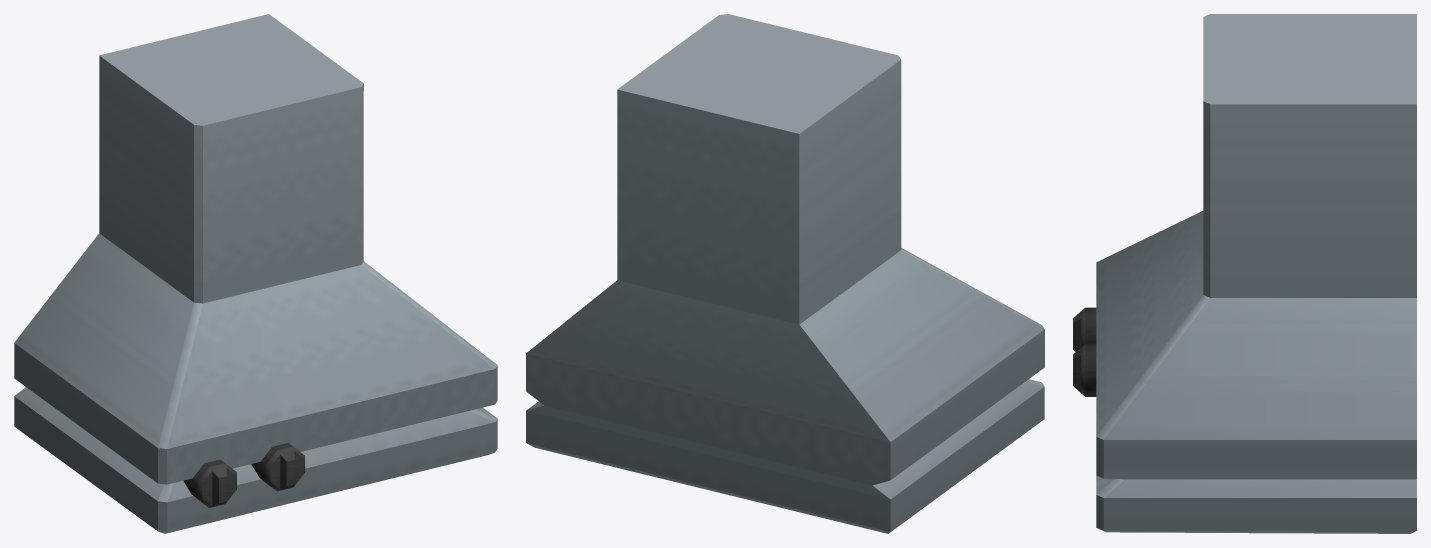
The model's file is extractorhood.gltf.
3 renders of one model, left to right at view 1: azimuth 30°, elevation 25°; view 2: azimuth 150°, elevation 25°; view 3: azimuth 270°, elevation 25°, orthographic. The views are drawn at different scales.
Visible parts, largest first — view 1: extractorhood; view 2: extractorhood; view 3: extractorhood.
Boxes of the visible parts, bbox=[...] form: extractorhood: bbox=[14, 14, 497, 533]; extractorhood: bbox=[526, 14, 1044, 533]; extractorhood: bbox=[1073, 14, 1416, 533].
Bounding box in the file's own units: 2 × 2 × 1.61.
Materials: 1 (1 with a texture image).
